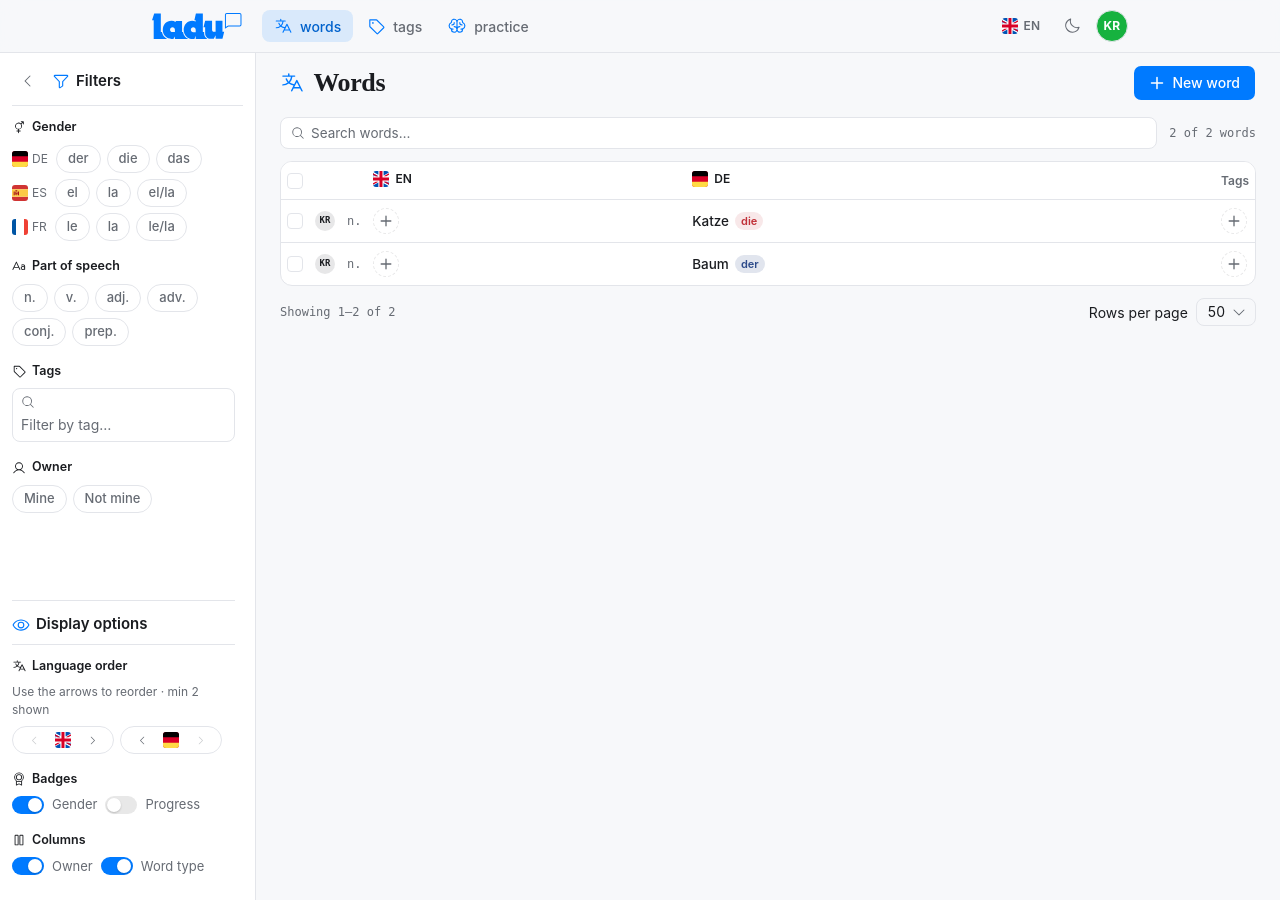
Test case: ReviewPage — Slice 7: filter bar writes the URL › a gender chip click reaches the request as that single language-specific value
Expected: the button "Baum der" is shown, [688, 252, 769, 276]
Click the button "der": {"x": 78, "y": 159} [56, 145, 101, 173]
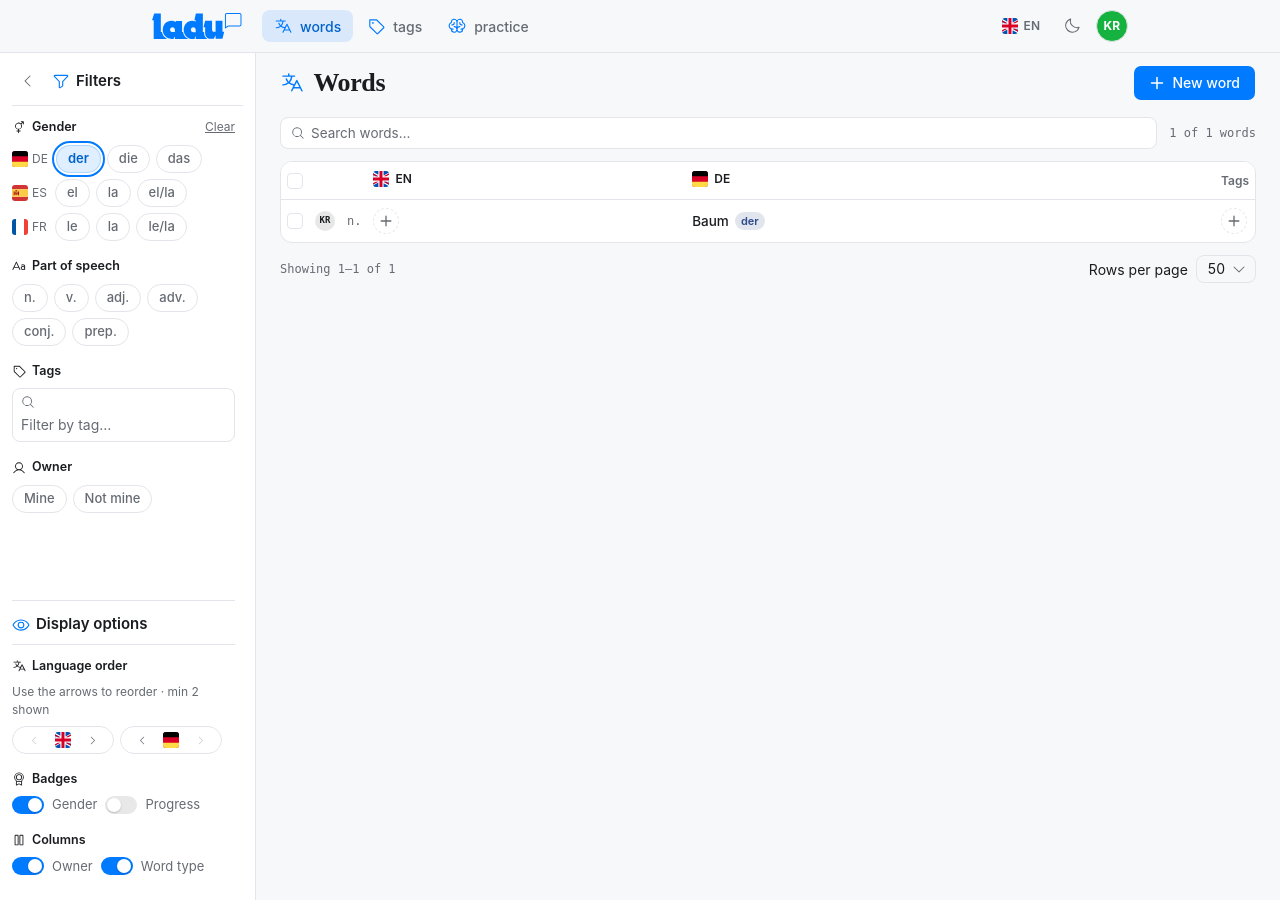
Expected: the button "Baum der" is shown, [688, 209, 769, 233]
Result: the button "Katze" is gone
